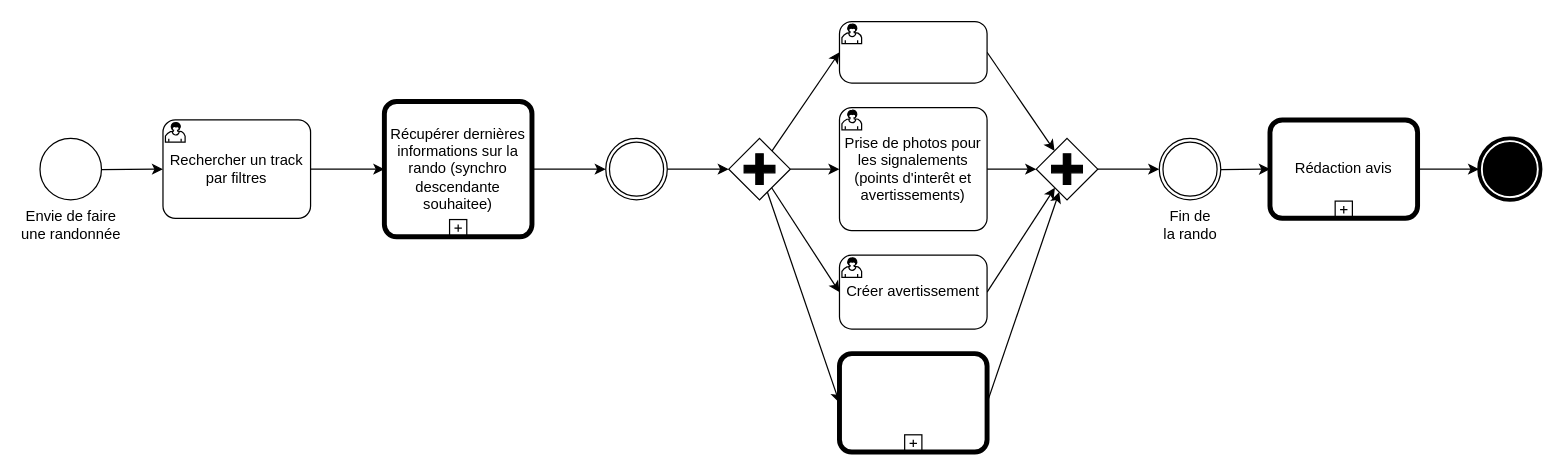
This 1562x474 diagram has some shape labels left out. The box of each missing label's shape, as (x1, y1, x2, y2) in pixels:
Debut de la rando: (605, 137, 667, 200)
Suivi du track: (838, 20, 987, 83)
Suppression avertissements: (838, 352, 987, 452)
